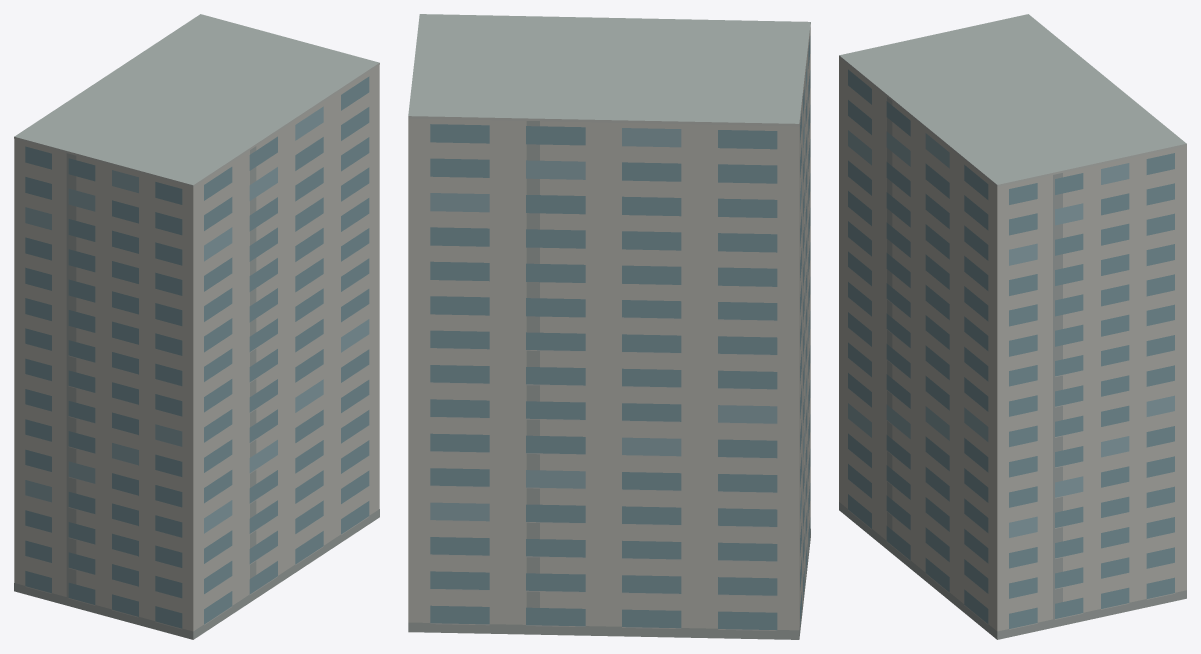
The model's file is residential-d483738d-279a-4359-ab14-1f9f97341ce0.glb.
The picture shows the model from 3 angles, left to right: view 1: azimuth 30°, elevation 25°; view 2: azimuth 150°, elevation 25°; view 3: azimuth 270°, elevation 25°; orthographic projection. The views are drawn at different scales.
Visible parts, largest first — view 1: residential-d483738d-279a-4359-ab14-1f9f97341ce0.tmp; view 2: residential-d483738d-279a-4359-ab14-1f9f97341ce0.tmp; view 3: residential-d483738d-279a-4359-ab14-1f9f97341ce0.tmp.
Boxes of the visible parts, left/top/right/bottom form: residential-d483738d-279a-4359-ab14-1f9f97341ce0.tmp: left=14, top=14, right=379, bottom=639; residential-d483738d-279a-4359-ab14-1f9f97341ce0.tmp: left=408, top=14, right=810, bottom=639; residential-d483738d-279a-4359-ab14-1f9f97341ce0.tmp: left=839, top=14, right=1186, bottom=639.
Size of the model in its own units: 41.91 by 52 by 36.02.
